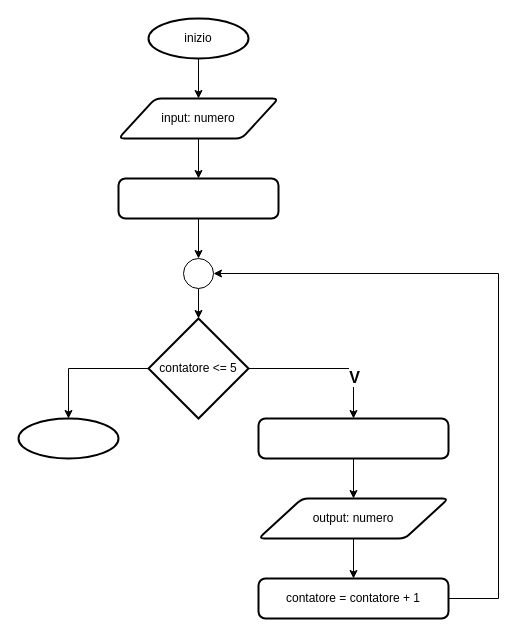
Image size: 524x636. Some labels were removed from this diagram. Each missing label, with the centre of its shape:
contatore = 1: point 198,198
fine: point 68,438
numero = numero + 1: point 353,438
